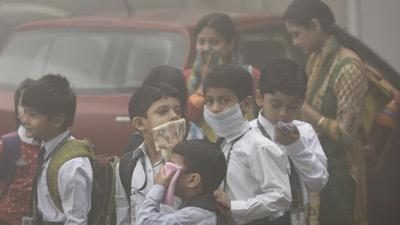mask_weared_incorrect: (205, 92, 242, 138), (194, 34, 227, 65)
with_mask: (164, 160, 189, 201)
without_mask: (148, 103, 183, 141), (262, 96, 302, 127), (22, 105, 50, 139), (287, 26, 311, 56)
